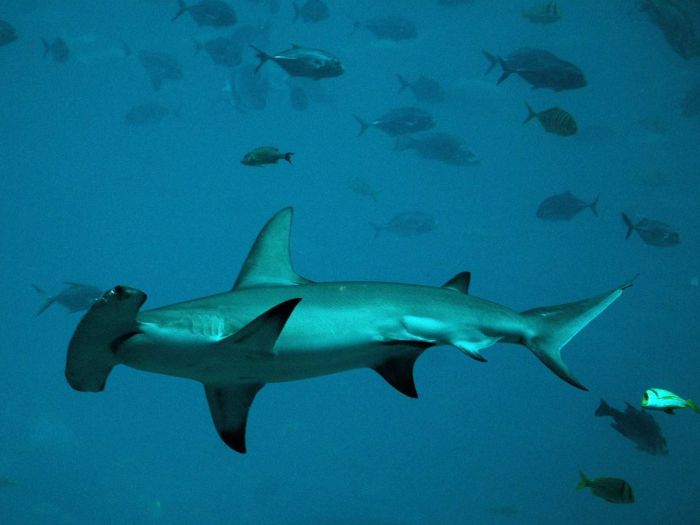Hammer: (40, 199, 652, 454)
